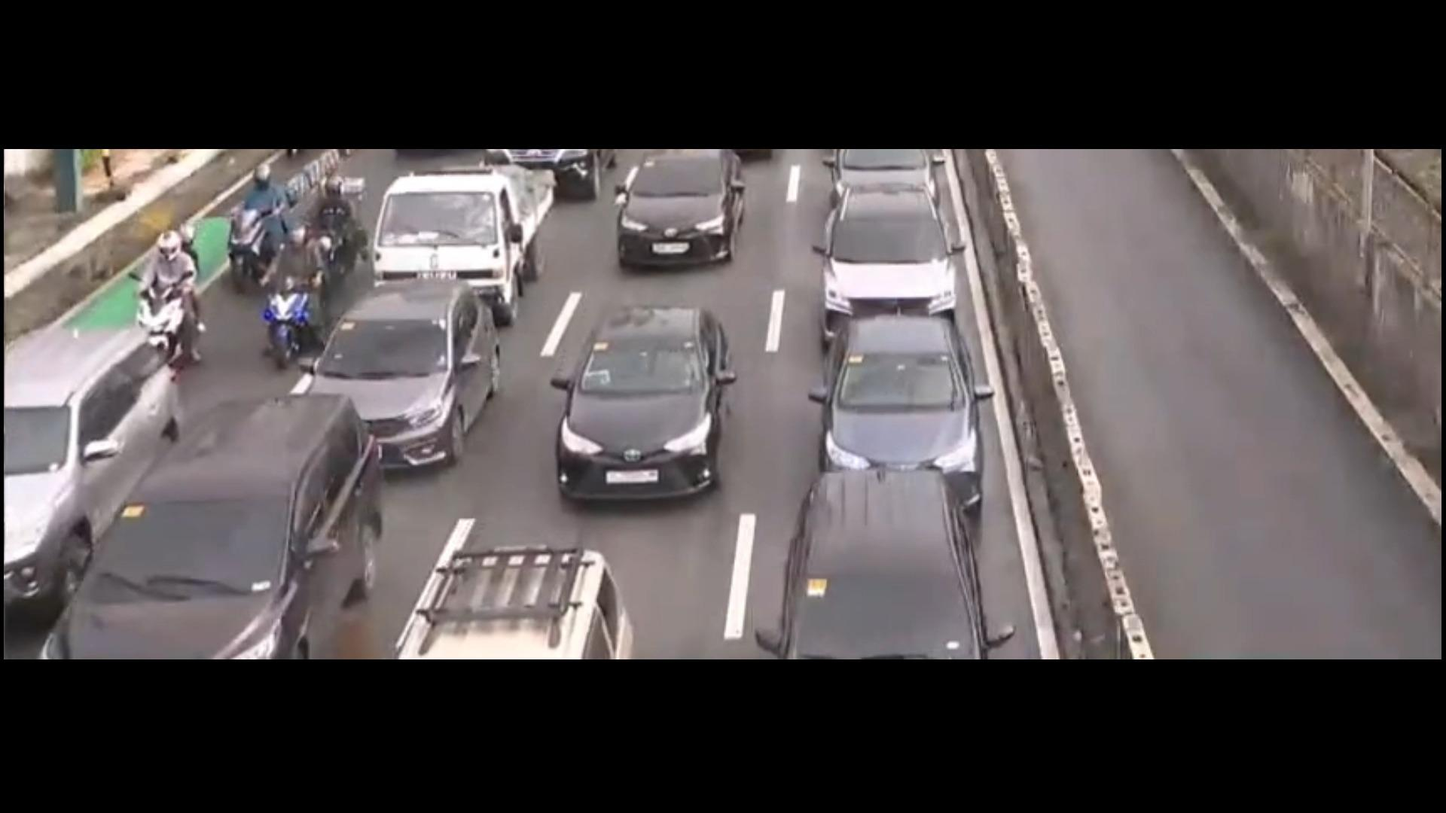Motorcycle: (202, 147, 316, 279), (127, 218, 216, 365), (254, 224, 344, 368), (305, 171, 367, 292)
SUV: (32, 372, 400, 662), (0, 316, 174, 613), (765, 455, 999, 657), (403, 517, 639, 664), (820, 181, 970, 344)
Sedan: (506, 288, 763, 523), (290, 269, 525, 466), (802, 303, 1004, 506), (590, 148, 771, 274)
Truck: (372, 144, 565, 313)
